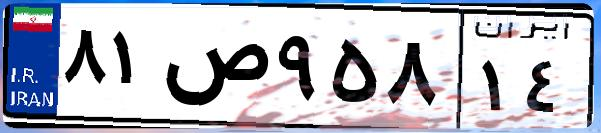1: (475, 38, 525, 113), (110, 28, 158, 98)
4: (525, 38, 570, 115)
5: (330, 28, 385, 110)
8: (385, 28, 445, 110), (57, 26, 110, 100)
9: (270, 28, 330, 110)
ص: (158, 20, 270, 120)
